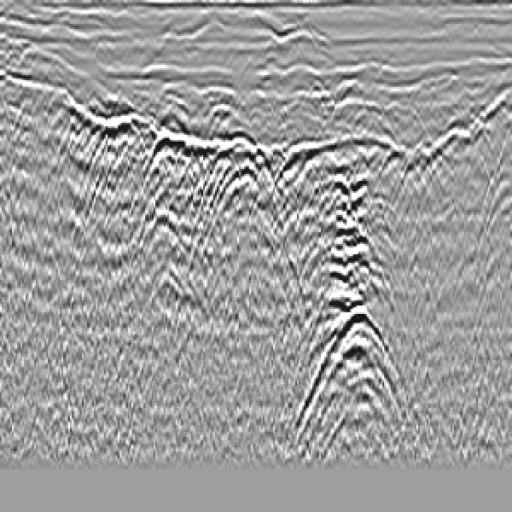metalic: (193, 130, 292, 264)
